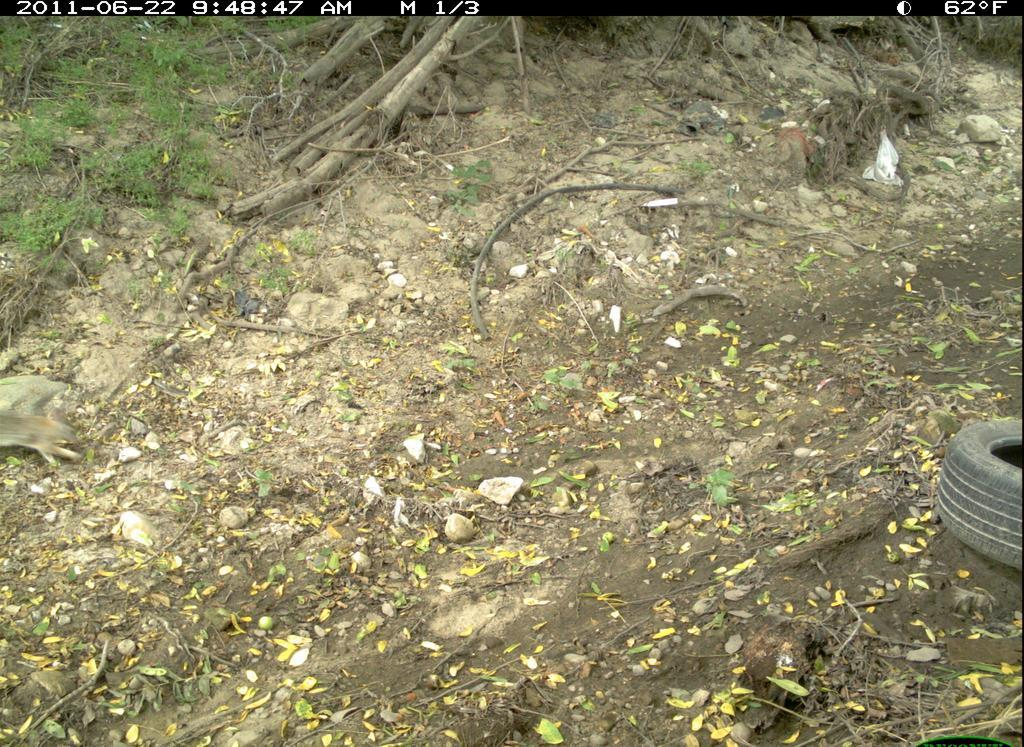rabbit: (4, 406, 94, 473)
